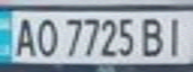2: (100, 15, 121, 58)
5: (115, 15, 142, 58)
7: (78, 15, 103, 57), (60, 15, 84, 57)
A: (9, 14, 39, 58)
B: (139, 15, 169, 57)
I: (160, 14, 190, 57)
O: (33, 15, 60, 58)
